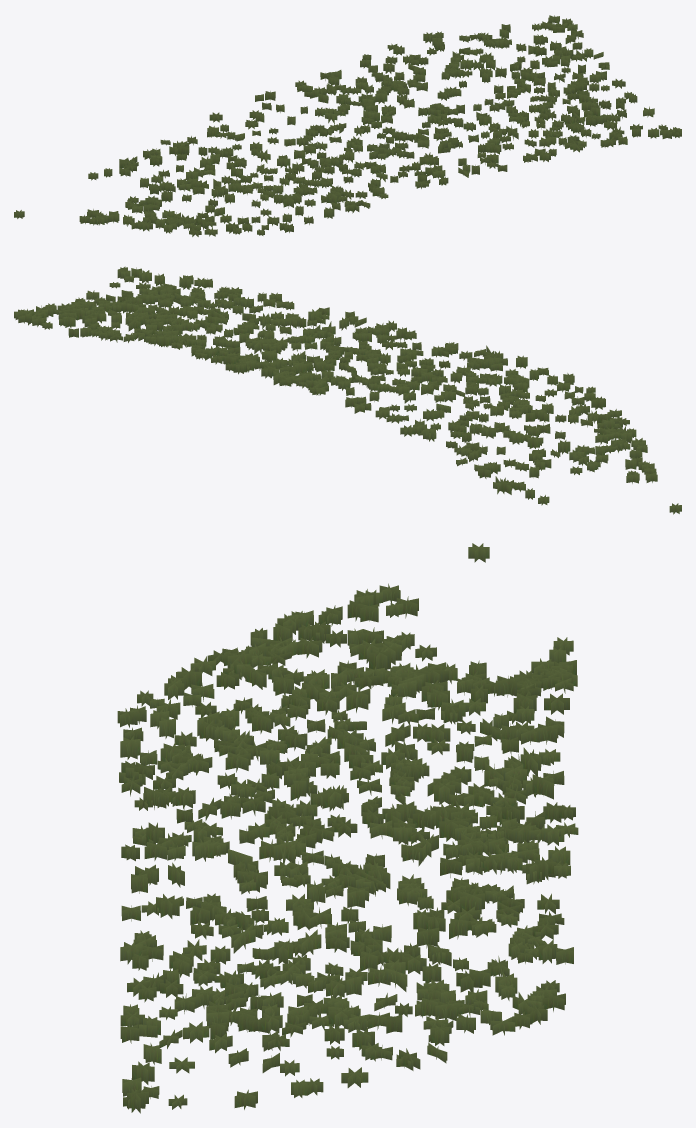
File: TRB8-GRASS-CHUNK-5-6.glb
3 renders of one model, top to bottom at view 1: azimuth 30°, elevation 25°; view 2: azimuth 150°, elevation 25°; view 3: azimuth 270°, elevation 25°, orthographic. The views are drawn at different scales.
Parts seen in each view (by area): view 1: TRB8-GRASS-CHUNK-5-6; view 2: TRB8-GRASS-CHUNK-5-6; view 3: TRB8-GRASS-CHUNK-5-6.
Boxes of the visible parts, <box> form: TRB8-GRASS-CHUNK-5-6: <box>14,15,681,236</box>; TRB8-GRASS-CHUNK-5-6: <box>14,266,681,514</box>; TRB8-GRASS-CHUNK-5-6: <box>117,543,578,1113</box>.
Size of the model in its own units: 31.05 by 3.29 by 10.66.
Materials: 1 (1 with a texture image).
